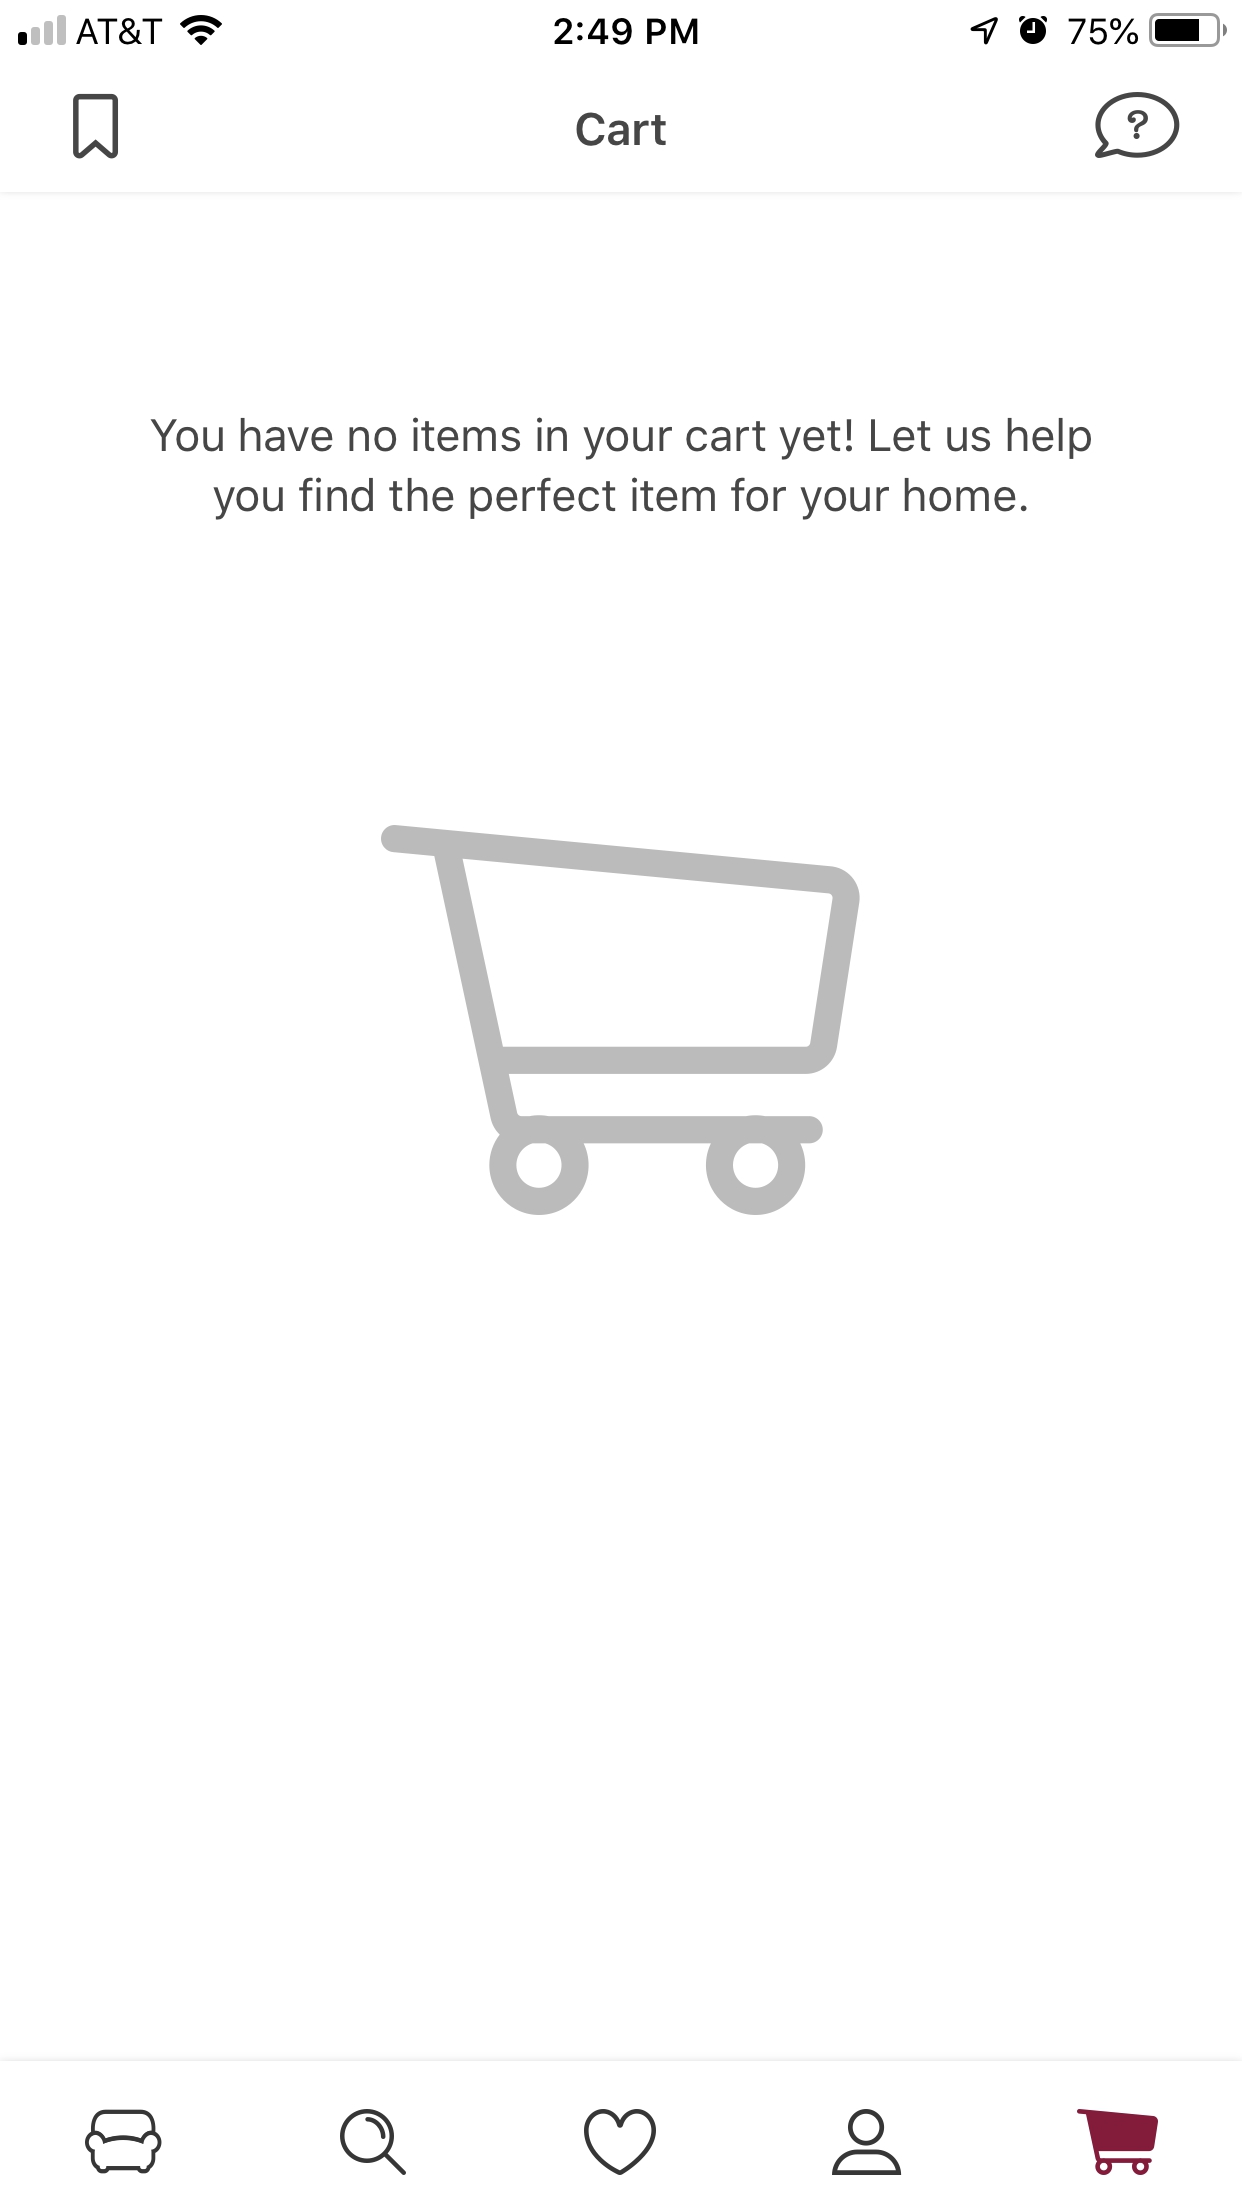Icon: (381, 823, 861, 1216), (1093, 93, 1181, 161), (1077, 2106, 1160, 2176), (584, 2108, 658, 2176), (833, 2108, 902, 2176), (340, 2108, 408, 2176), (74, 94, 120, 161)
Image: (85, 2108, 164, 2175)
Text: (152, 419, 1092, 522), (576, 112, 667, 149)
UpperTaskBar: (2, 2, 1242, 49)
